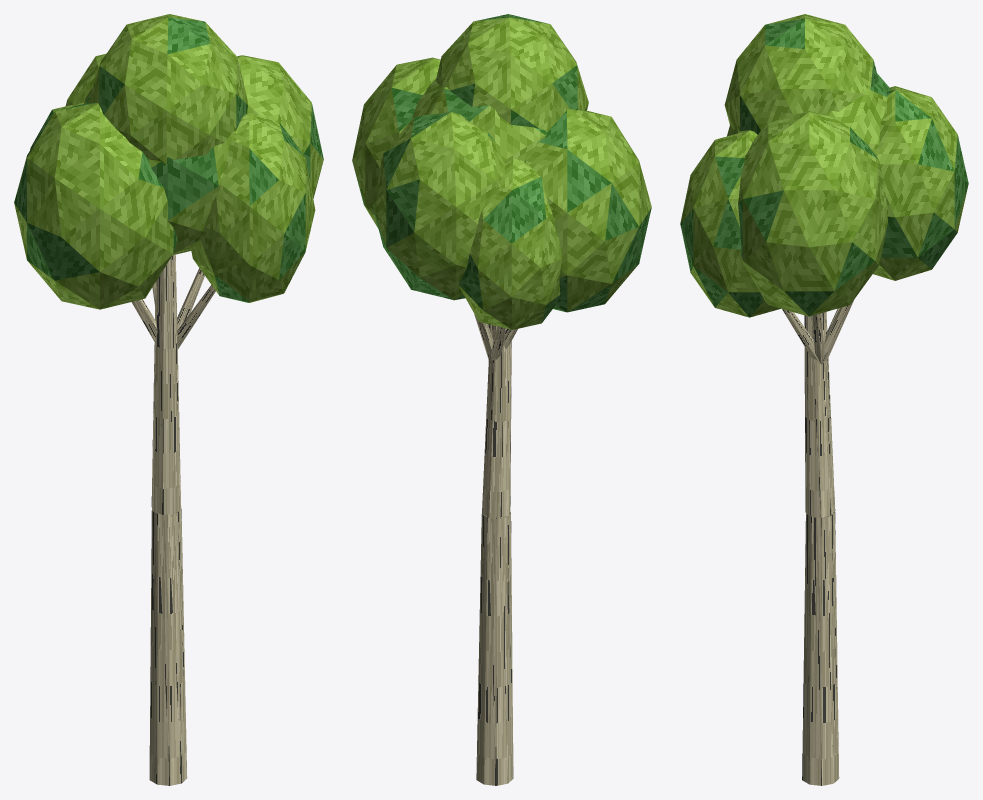
Rendered from 07_abedul_verde.glb.
The picture shows the model from 3 angles, left to right: view 1: azimuth 30°, elevation 25°; view 2: azimuth 150°, elevation 25°; view 3: azimuth 270°, elevation 25°; orthographic projection.
Visible parts, largest first — view 1: world; view 2: world; view 3: world.
Part boxes in pixels (left/top/right/bottom): world: left=14, top=14, right=323, bottom=785; world: left=352, top=14, right=651, bottom=785; world: left=680, top=14, right=968, bottom=785.
Bounding box in the file's own units: 15.43 × 40 × 13.83.
1 material, 1 textured.
